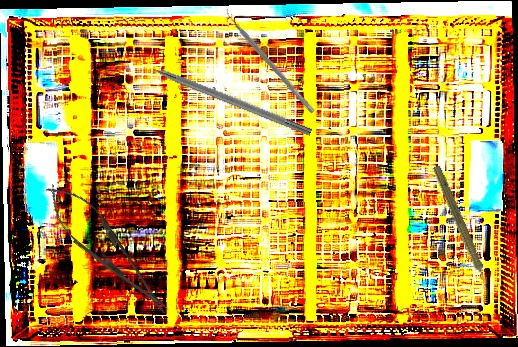Handpiece: (427, 164, 495, 294)
Hook Surgical: (134, 56, 314, 137)
Needle Holder: (34, 172, 181, 327)
Spatula Surgical: (219, 4, 320, 115)
